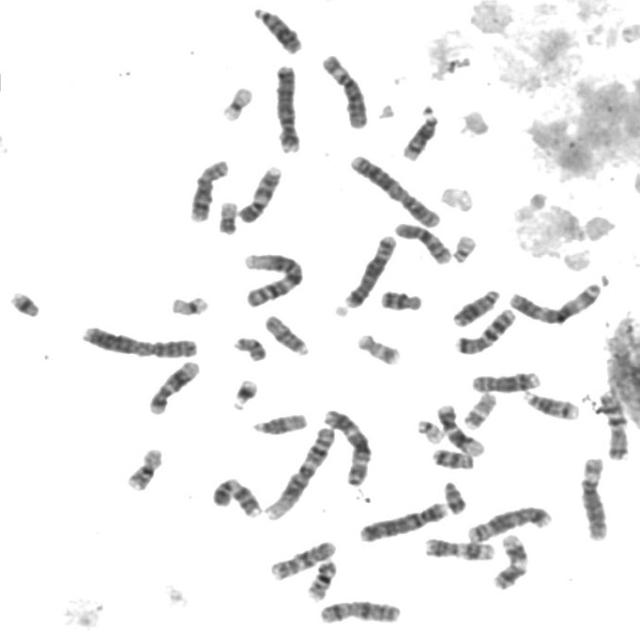A1: (261, 422, 339, 522), (239, 248, 308, 308)
A2: (345, 149, 445, 229), (77, 319, 203, 360)
A3: (505, 278, 604, 326), (320, 404, 375, 488)
B4: (356, 496, 450, 544), (270, 59, 305, 154)
B5: (340, 229, 400, 309), (464, 501, 556, 544)
C10: (266, 536, 340, 581), (390, 218, 454, 266)
C11: (489, 529, 531, 591), (421, 533, 498, 562)
C12: (146, 354, 203, 416), (434, 399, 488, 457)
C6: (317, 48, 372, 130), (576, 451, 614, 543)
C7: (450, 303, 519, 356), (596, 386, 632, 462)
C8: (186, 154, 233, 223), (468, 366, 544, 394)
C9: (235, 160, 285, 224), (208, 472, 266, 519)
D13: (250, 2, 306, 55), (449, 284, 503, 328)
D14: (398, 104, 443, 162), (519, 386, 584, 421)
D15: (261, 310, 312, 357), (248, 407, 310, 436)
E16: (123, 443, 167, 492), (303, 555, 340, 602)
E17: (354, 328, 404, 366), (460, 387, 500, 430)
E18: (377, 285, 425, 313), (429, 444, 478, 470)
F19: (218, 81, 256, 122), (167, 289, 213, 317)
F20: (230, 330, 270, 362), (215, 196, 241, 236)
G21: (228, 373, 262, 411), (6, 285, 44, 319)
G22: (448, 230, 479, 264), (413, 414, 448, 444)
X: (316, 596, 404, 626)
